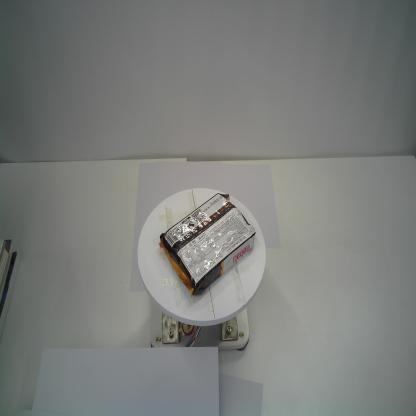Dessert: (156, 190, 258, 300)
